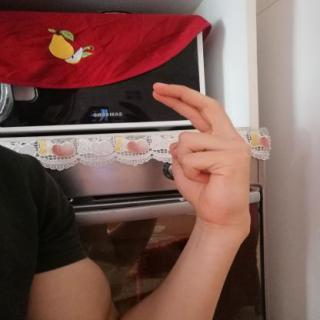ZAY: (140, 76, 258, 230)
